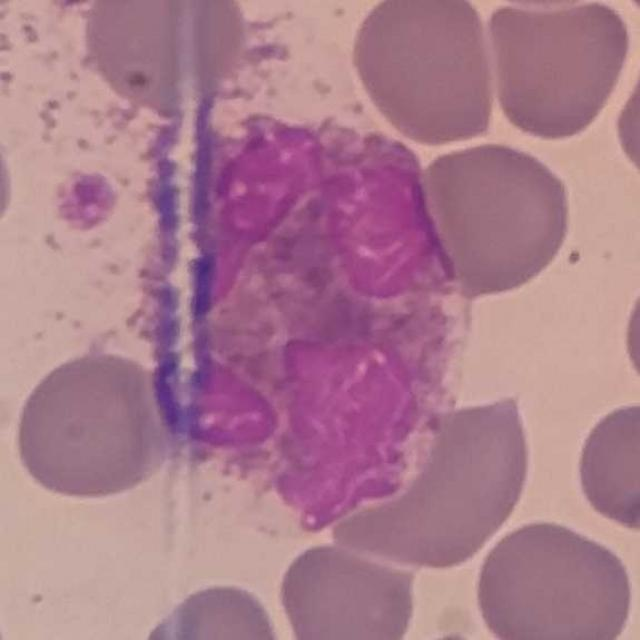Eosinophil: (104, 106, 456, 541)
Platelets: (51, 168, 120, 234), (43, 0, 98, 14)
RBC: (321, 388, 538, 574), (8, 344, 179, 504), (418, 137, 576, 298), (346, 0, 502, 149), (483, 0, 630, 144), (470, 514, 638, 640), (142, 336, 288, 476), (69, 0, 225, 114), (274, 537, 422, 640), (130, 576, 294, 640), (570, 395, 640, 534), (610, 37, 640, 196), (617, 261, 640, 407), (0, 102, 19, 260)
